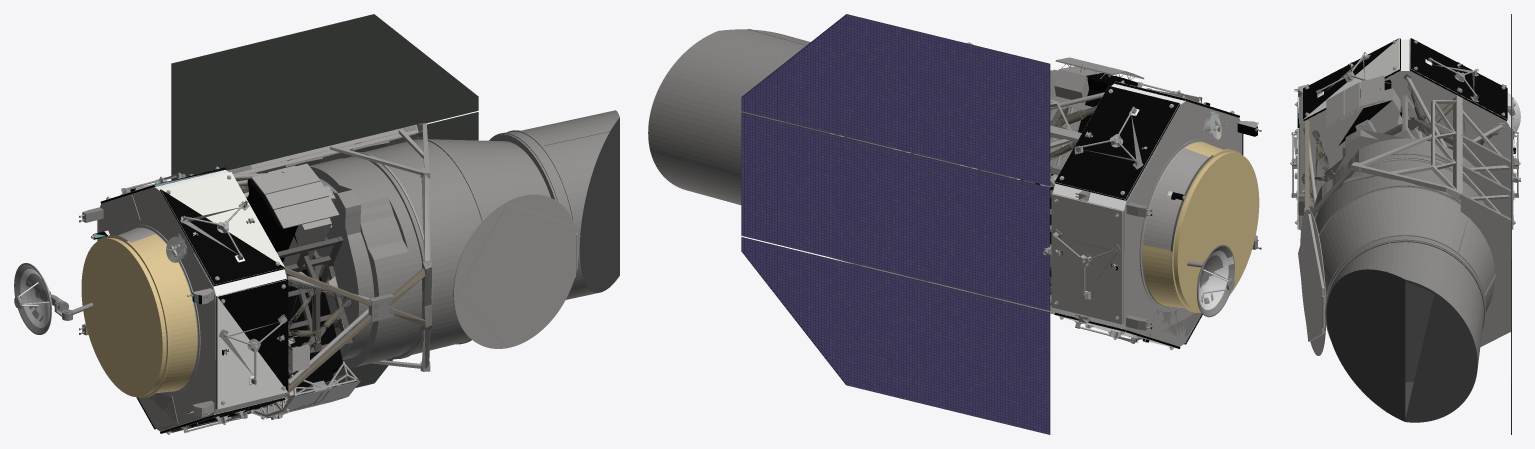
Rendered from WFirst-2015-composite.fbx.
The picture shows the model from 3 angles, left to right: view 1: azimuth 30°, elevation 25°; view 2: azimuth 150°, elevation 25°; view 3: azimuth 270°, elevation 25°; orthographic projection. The views are drawn at different scales.
Parts seen in each view (by area): view 1: imagetostl_mesh0; view 2: imagetostl_mesh0; view 3: imagetostl_mesh0.
Part boxes in pixels (x1,y1,x2,y2): imagetostl_mesh0: [14, 14, 619, 434]; imagetostl_mesh0: [648, 14, 1261, 434]; imagetostl_mesh0: [1290, 14, 1520, 434].
Size of the model in its own units: 34430 by 20702 by 13051.
